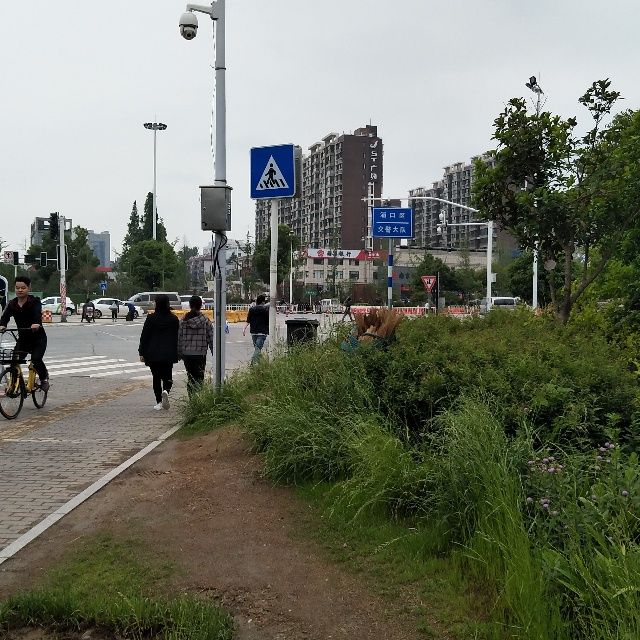crosswalk: (250, 143, 297, 200)
